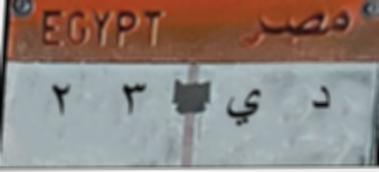2: (46, 81, 75, 123)
3: (116, 77, 150, 126)
daal: (306, 82, 335, 120)
yaa: (223, 84, 264, 128)
